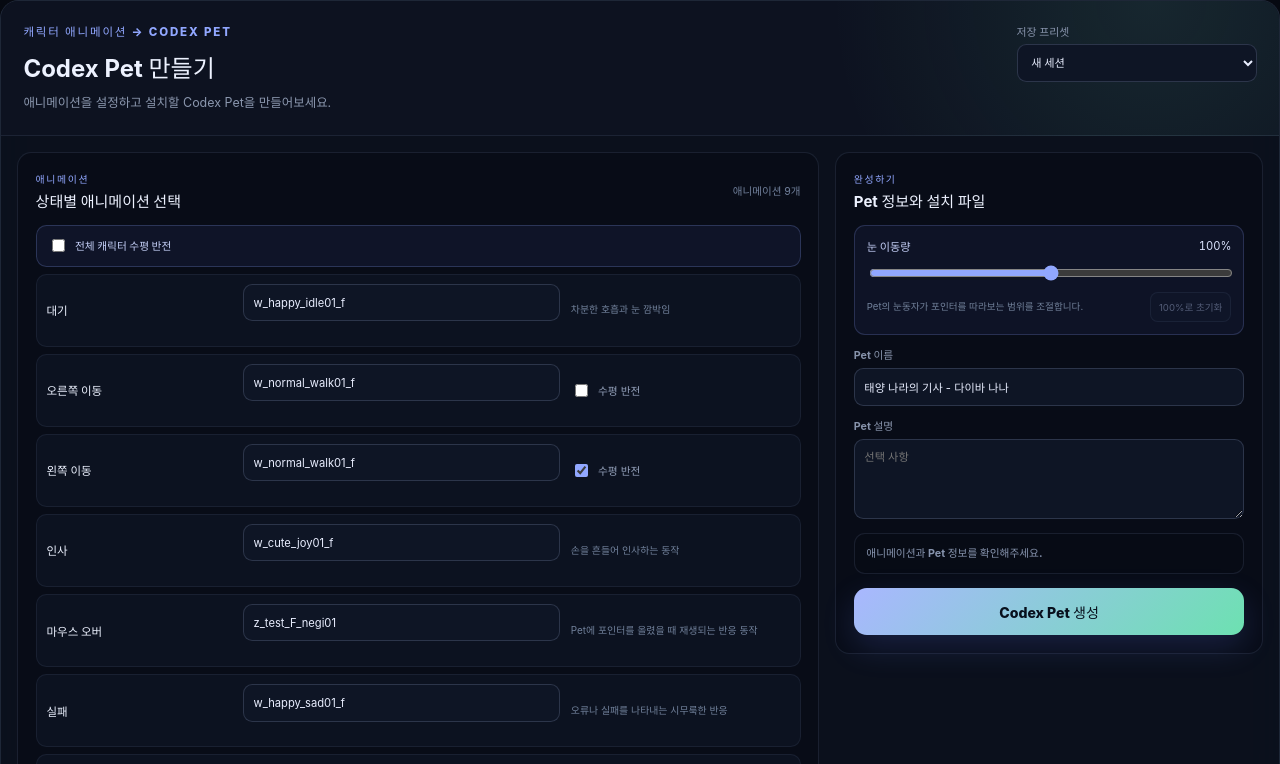
Test: CodexPetBuilder › source 기본 이름을 표시하고 static look fallback을 sampler에 전달한다
The width and height of the screenshot is (1280, 764).
Expected: the field labelled "Pet 이름" holds "태양 나라의 기사 - 다이바 나나", top-left (854, 368), bottom-right (1244, 406)
Step 1. Click the button "Codex Pet 생성" → (1049, 612), box top-left (854, 588), bottom-right (1244, 635)
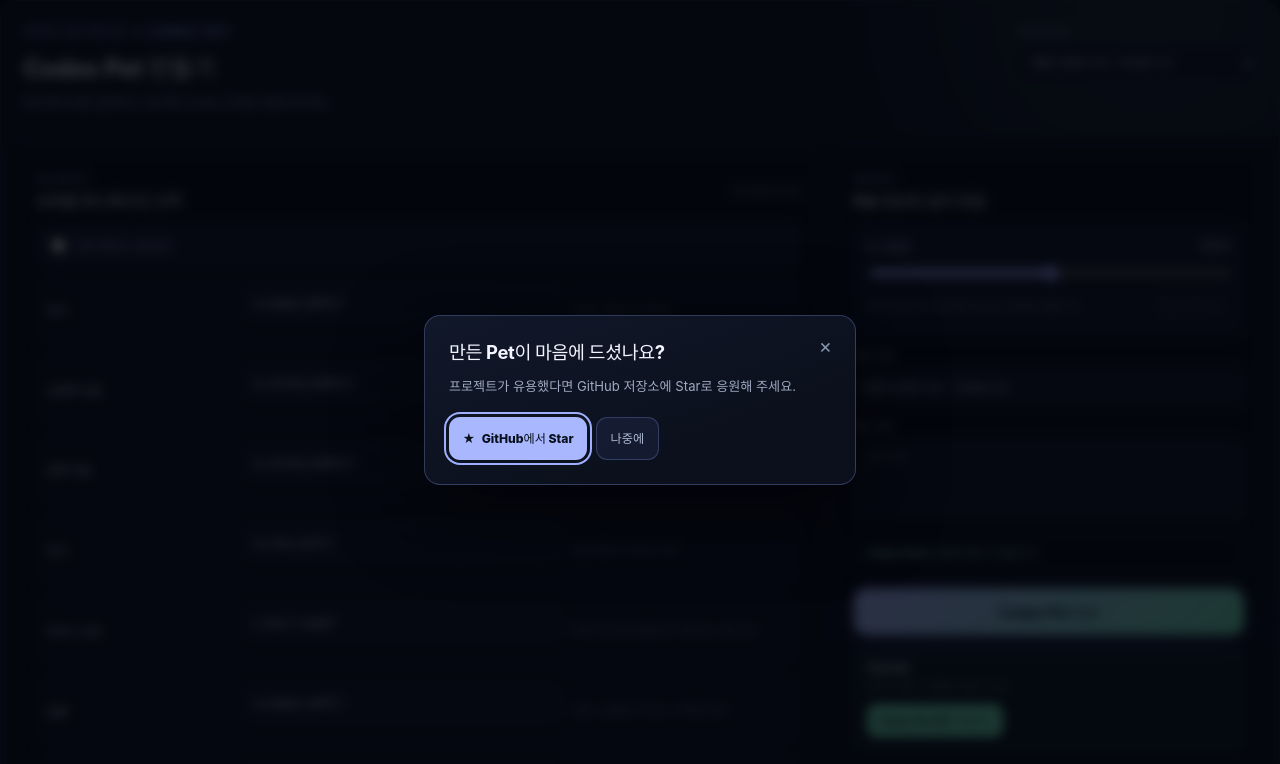
Result: the link "Codex Pet ZIP 다운로드" is shown at top-left (867, 704), bottom-right (1003, 737)
